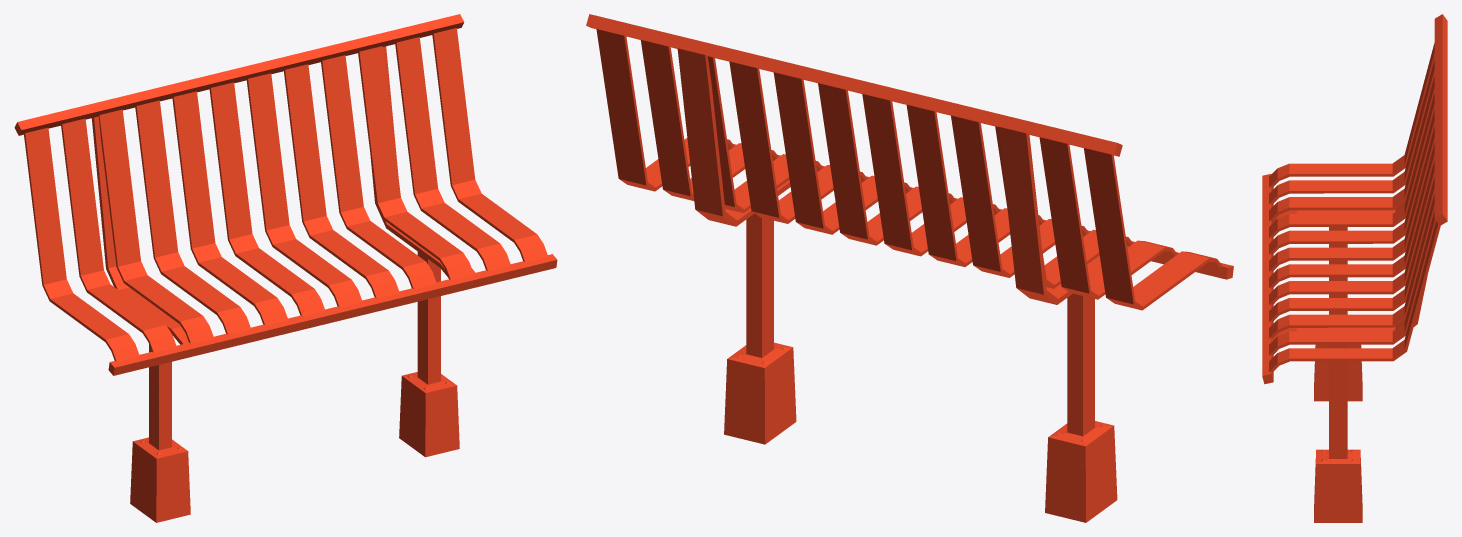
The model's file is SM_Bench_D_City.fbx.
3 renders of one model, left to right at view 1: azimuth 30°, elevation 25°; view 2: azimuth 150°, elevation 25°; view 3: azimuth 270°, elevation 25°, orthographic. The views are drawn at different scales.
Visible parts, largest first — view 1: SM_Bench_D_City; view 2: SM_Bench_D_City; view 3: SM_Bench_D_City.
Boxes of the visible parts, box(x1,y1,x2,y2) form: SM_Bench_D_City: box(14, 14, 557, 522); SM_Bench_D_City: box(586, 14, 1233, 522); SM_Bench_D_City: box(1262, 14, 1447, 522).
Size of the model in its own units: 1.57 by 1.24 by 0.6145.
